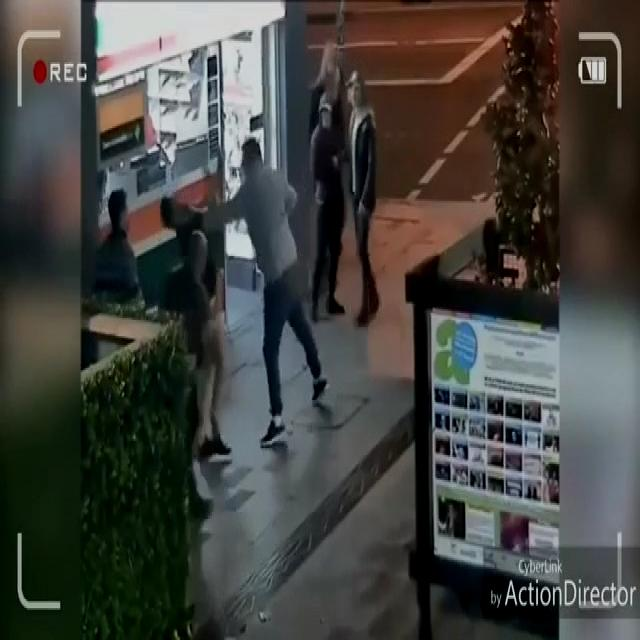fight: (158, 130, 303, 476)
